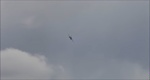maybay_muctieu: (67, 33, 76, 45)
